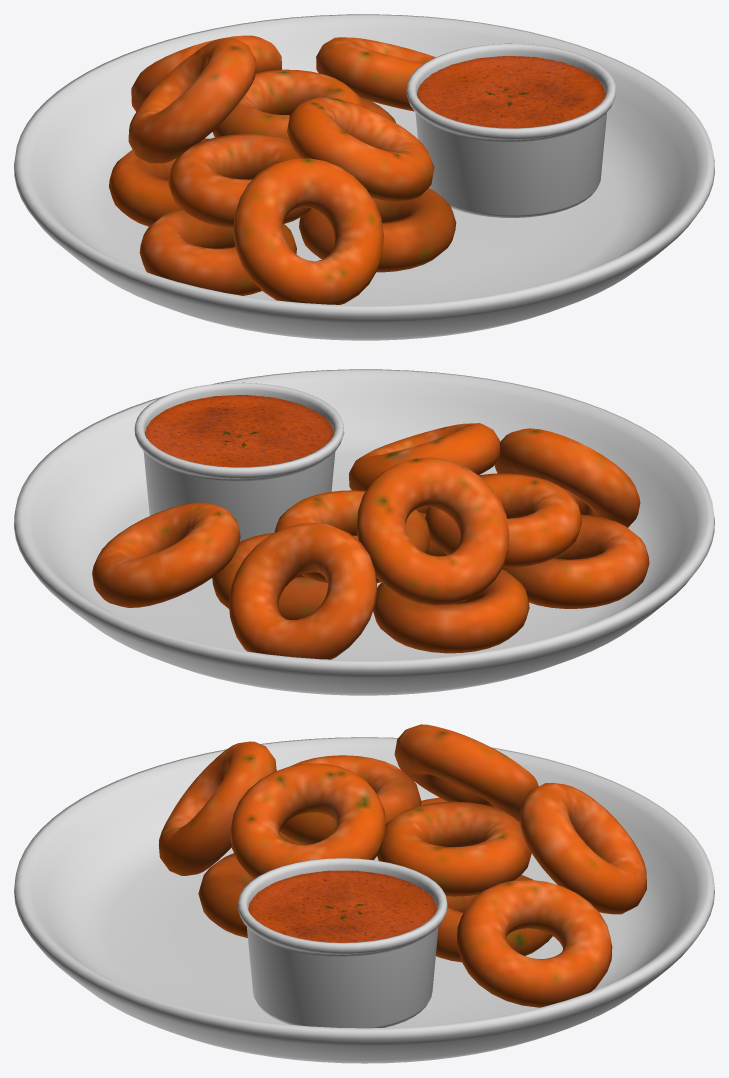
Rendered from menu4.glb.
3 views of the same model, one above another, from view 1: azimuth 30°, elevation 25°; view 2: azimuth 150°, elevation 25°; view 3: azimuth 270°, elevation 25° (orthographic).
Parts seen in each view (by area): view 1: Onion_Rings_Platter_3, Onion_Rings_Platter_1, Onion_Rings_Platter_2; view 2: Onion_Rings_Platter_3, Onion_Rings_Platter_1, Onion_Rings_Platter_2; view 3: Onion_Rings_Platter_3, Onion_Rings_Platter_1, Onion_Rings_Platter_2.
Boxes of the visible parts, <box> form: Onion_Rings_Platter_3: <box>14,14,714,340</box>; Onion_Rings_Platter_1: <box>109,35,456,304</box>; Onion_Rings_Platter_2: <box>417,56,605,128</box>; Onion_Rings_Platter_3: <box>14,369,714,695</box>; Onion_Rings_Platter_1: <box>92,423,649,659</box>; Onion_Rings_Platter_2: <box>145,395,333,467</box>; Onion_Rings_Platter_3: <box>14,737,714,1063</box>; Onion_Rings_Platter_1: <box>158,724,646,1007</box>; Onion_Rings_Platter_2: <box>248,870,436,942</box>.
Bounding box in the file's own units: 0.0859 × 0.023 × 0.0859.
Materials: 3 (2 with a texture image).
